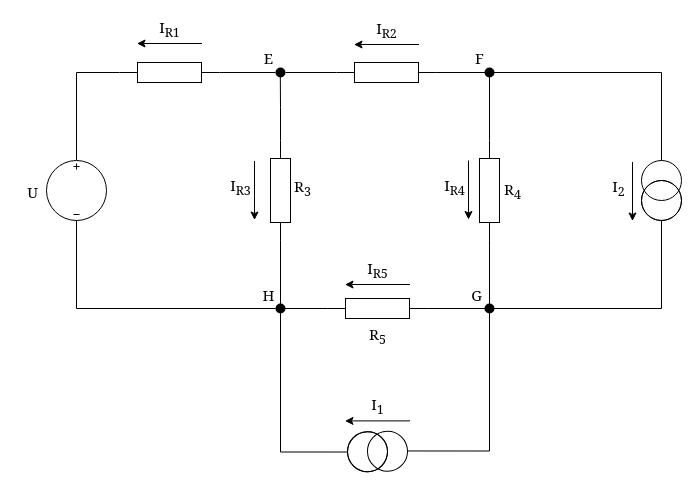
This 699x490 diagram has some shape labels left out. Here are the shapes that lost their labels. From the top down, the centre of each, then its label:
At [169,72]: "R 1".
At [386,72]: "R 2".
